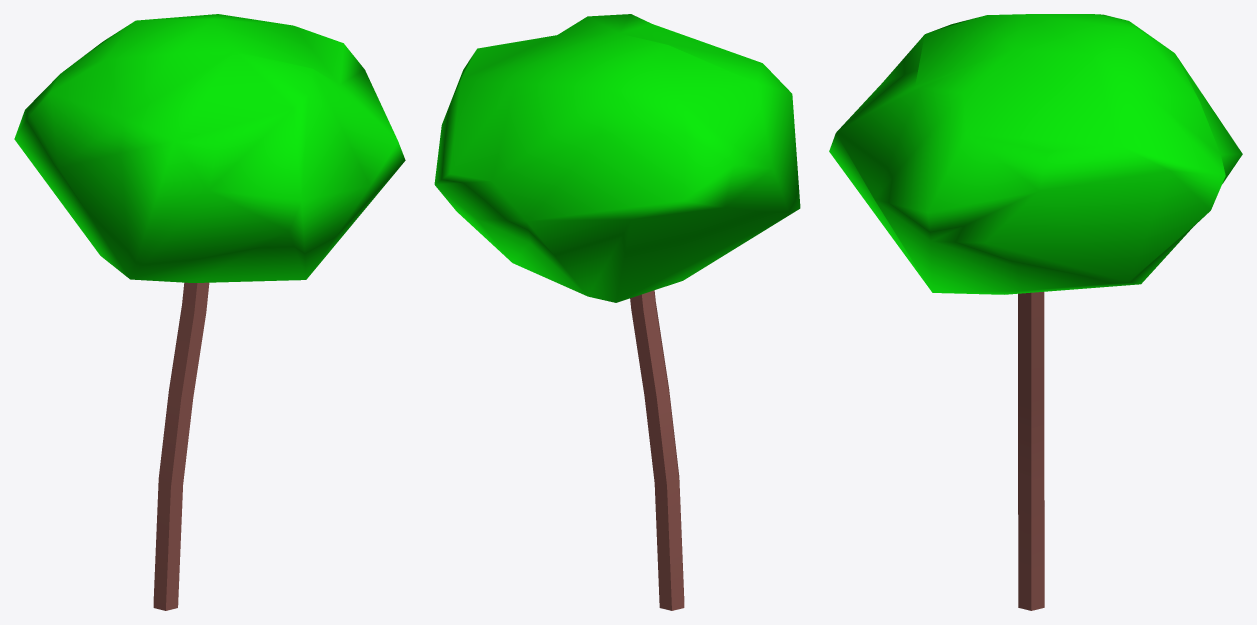
Rendered from StandardTree.fbx.
3 renders of one model, left to right at view 1: azimuth 30°, elevation 25°; view 2: azimuth 150°, elevation 25°; view 3: azimuth 270°, elevation 25°, orthographic. The views are drawn at different scales.
Visible parts, largest first — view 1: StandardTree; view 2: StandardTree; view 3: StandardTree.
Part boxes in pixels (x1,y1,x2,y2): StandardTree: (14, 14, 405, 610); StandardTree: (434, 14, 800, 610); StandardTree: (829, 14, 1242, 610).
Size of the model in its own units: 482 by 827 by 523.
